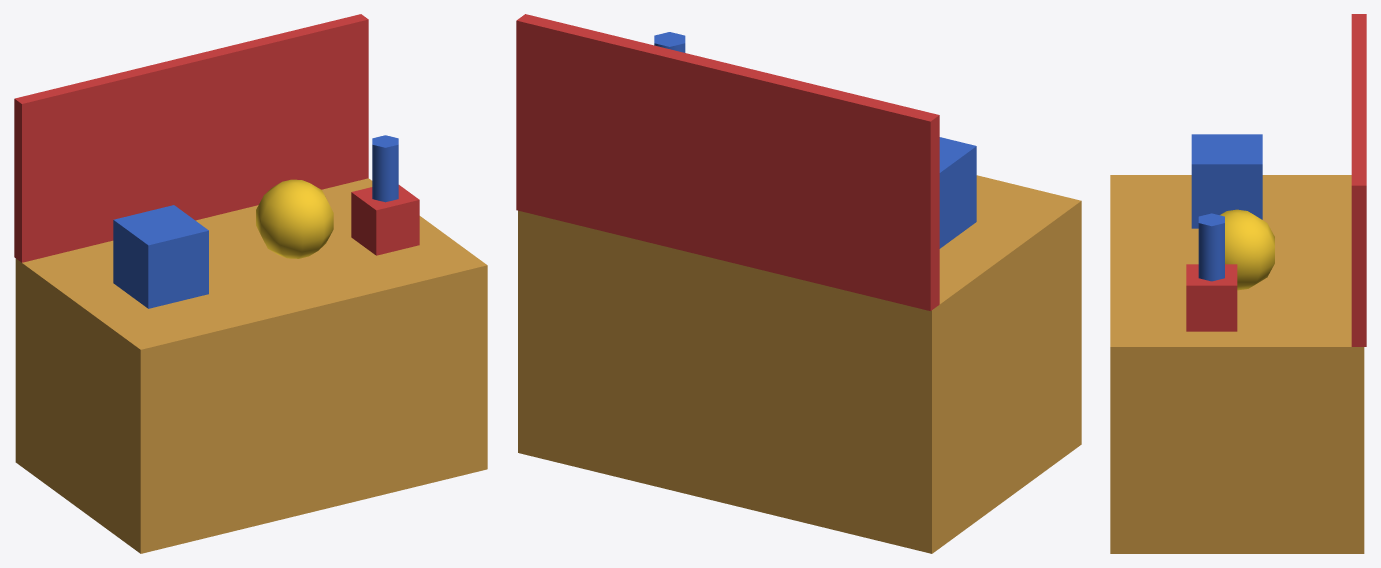
File: toy_box.glb
3 views of the same model, side by side, from view 1: azimuth 30°, elevation 25°; view 2: azimuth 150°, elevation 25°; view 3: azimuth 270°, elevation 25° (orthographic). The views are drawn at different scales.
Parts seen in each view (by area): view 1: toy_box; view 2: toy_box; view 3: toy_box.
Boxes of the visible parts, x1,y1,x2,y2 form: toy_box: (14, 14, 487, 553); toy_box: (516, 14, 1081, 553); toy_box: (1110, 14, 1366, 553).
Size of the model in its own units: 0.8 by 0.8 by 0.505.
